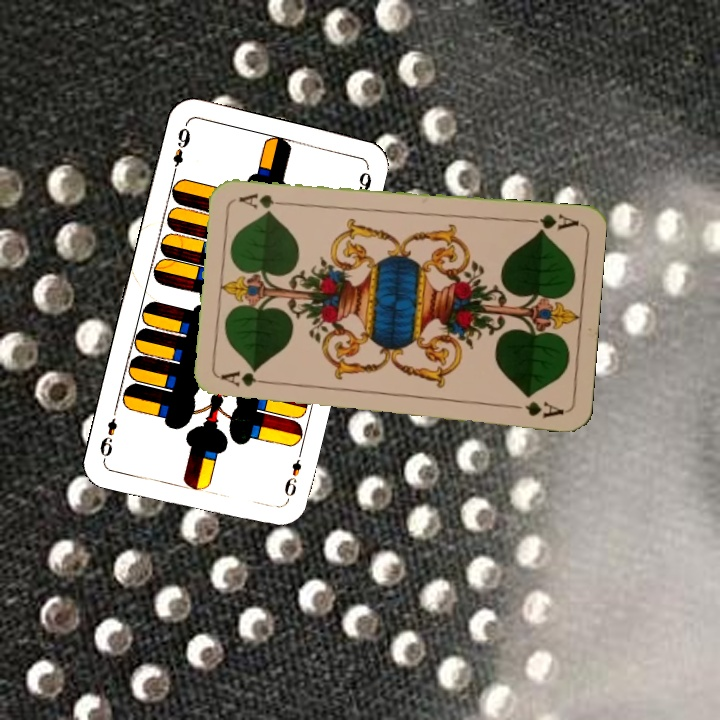E9: (168, 121, 193, 180), (280, 447, 305, 505)
GA: (521, 210, 581, 236), (218, 370, 277, 389)
